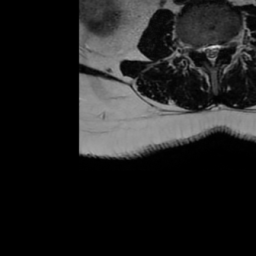CCS_normal: (209, 39, 215, 72)
LFS_stenosis: (222, 36, 229, 55)
LLS_stenosis: (215, 39, 221, 59)
RFS_stenosis: (193, 38, 202, 58)
RLS_stenosis: (202, 40, 209, 61)
